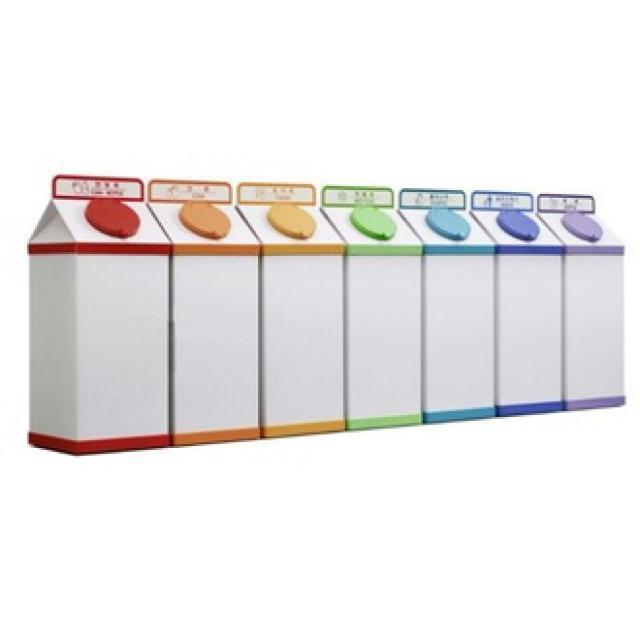Carton: (2, 143, 175, 470), (144, 166, 262, 462), (236, 177, 345, 441), (400, 174, 497, 462), (532, 178, 638, 424), (321, 186, 421, 445), (478, 174, 564, 434)
